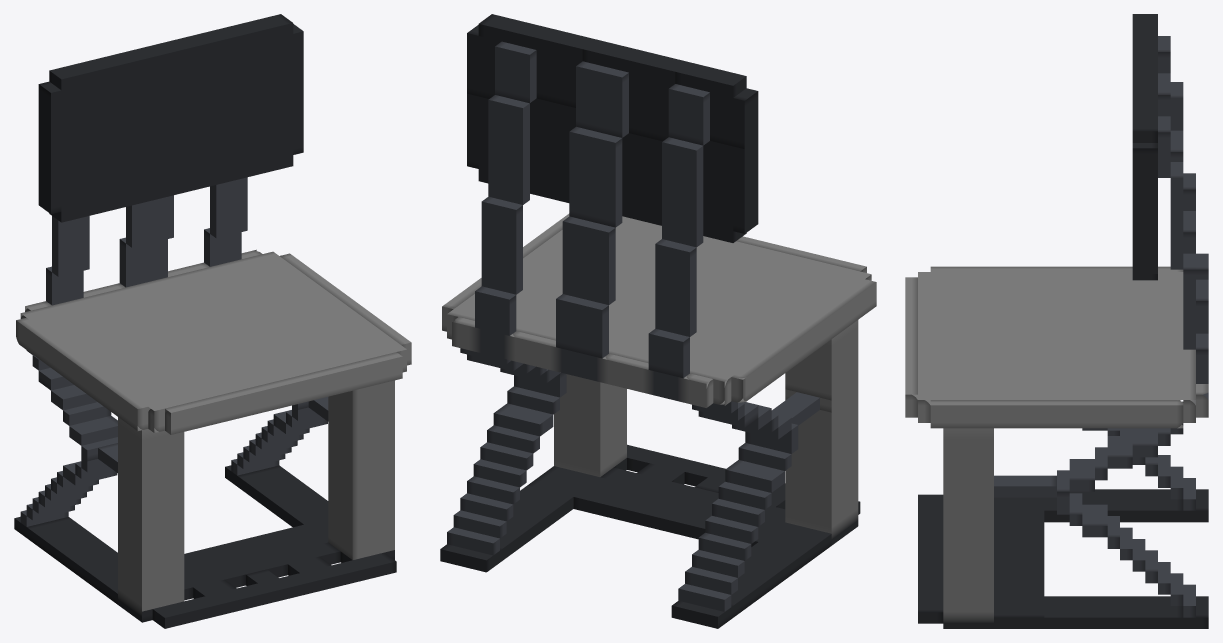
The model's file is KRZELO_02.dae.
3 views of the same model, side by side, from view 1: azimuth 30°, elevation 25°; view 2: azimuth 150°, elevation 25°; view 3: azimuth 270°, elevation 25° (orthographic). The views are drawn at different scales.
Visible parts, largest first — view 1: Content; view 2: Content; view 3: Content.
Part boxes in pixels (x1,y1,x2,y2): Content: (14,14,411,628); Content: (440,14,876,628); Content: (905,14,1208,628).
Size of the model in its own units: 26 by 43 by 24.
1 material, 1 textured.
